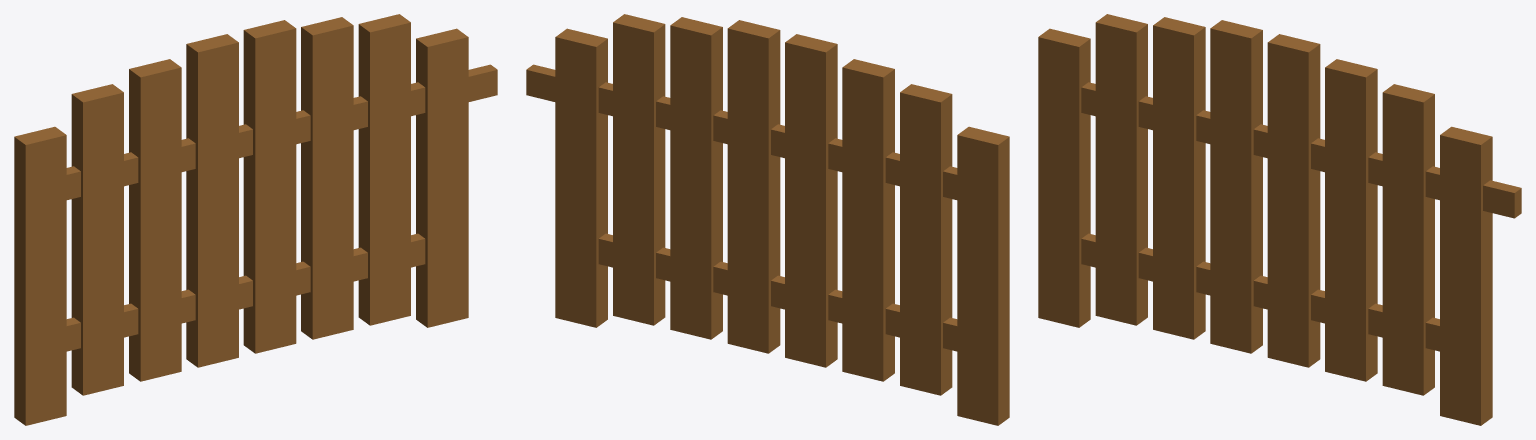
File: Fence_7.fbx
3 views of the same model, side by side, from view 1: azimuth 30°, elevation 25°; view 2: azimuth 150°, elevation 25°; view 3: azimuth 330°, elevation 25° (orthographic).
Visible parts, largest first — view 1: Fence_1; view 2: Fence_1; view 3: Fence_1.
Boxes of the visible parts, x1,y1,x2,y2 form: Fence_1: [14, 14, 497, 425]; Fence_1: [526, 14, 1009, 425]; Fence_1: [1038, 14, 1521, 425].
Size of the model in its own units: 119 by 79.79 by 5.04.
